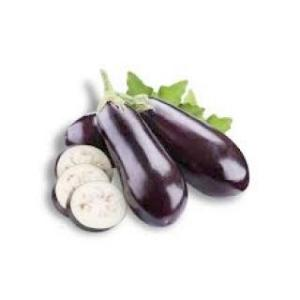eggplant: (99, 91, 187, 225), (134, 92, 248, 194)
